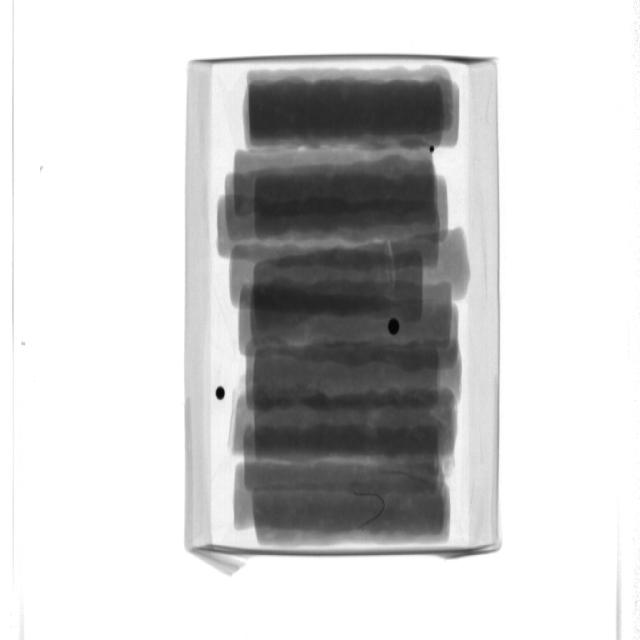ym: (355, 490, 386, 532), (389, 318, 401, 336), (217, 387, 226, 401), (428, 147, 436, 154)
